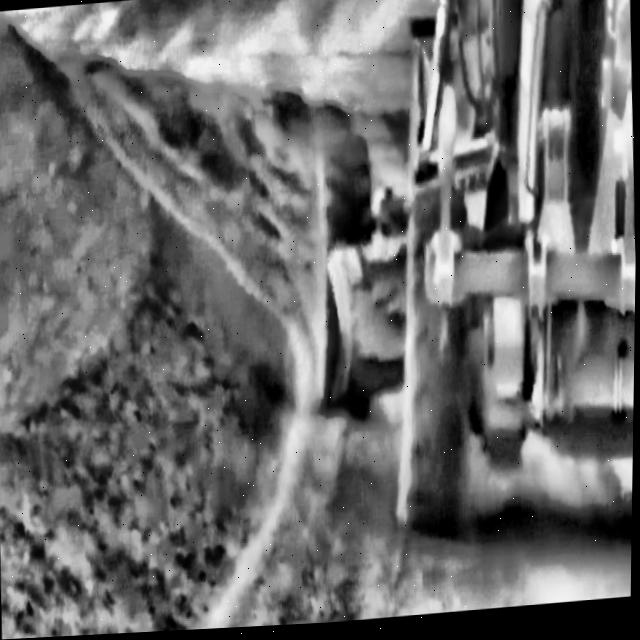buldozerpayloadergrader: (314, 0, 640, 594)
